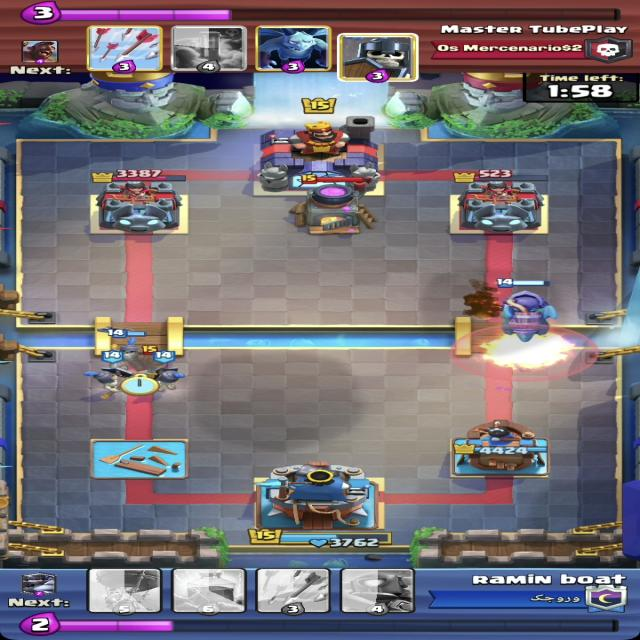Enemy-Furnace: (289, 174, 380, 236)
Enemy-Musketeer: (119, 344, 171, 378)
Player-Guard: (84, 349, 134, 400), (144, 350, 188, 392), (106, 327, 146, 369)
Player-InfernoDragon: (495, 278, 559, 343)
